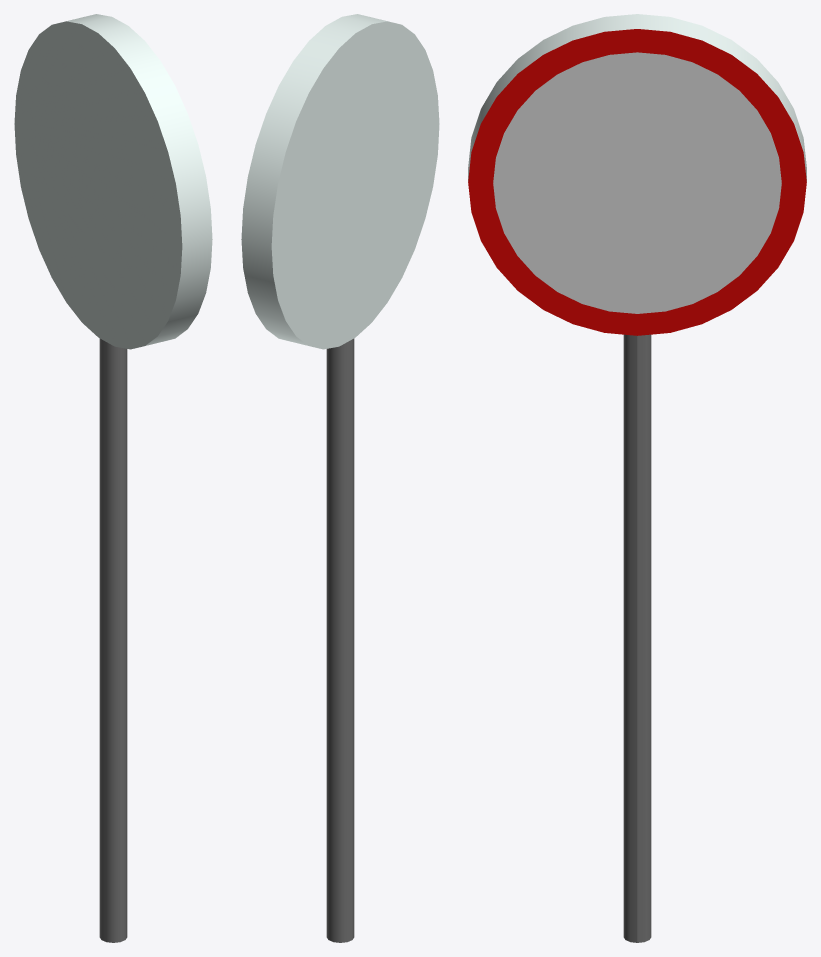
File: Speed Limit Signs.fbx
3 views of the same model, side by side, from view 1: azimuth 30°, elevation 25°; view 2: azimuth 150°, elevation 25°; view 3: azimuth 270°, elevation 25° (orthographic).
Visible parts, largest first — view 1: Cylinder; view 2: Cylinder; view 3: Cylinder.
Boxes of the visible parts, x1=… form: Cylinder: x1=14, y1=14, x2=212, y2=942; Cylinder: x1=241, y1=14, x2=439, y2=942; Cylinder: x1=468, y1=14, x2=806, y2=942.
Size of the model in its own units: 20.74 by 596 by 200.
